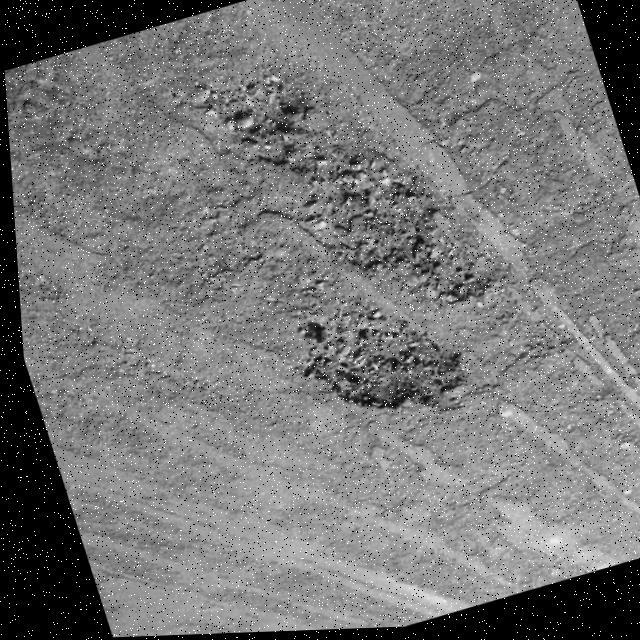pothole: (182, 16, 512, 361), (276, 278, 474, 456)
